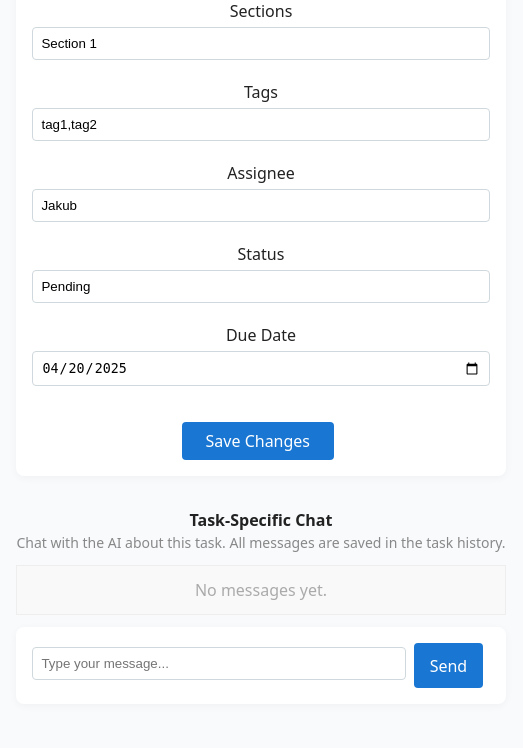
it: TaskDetail per-task chat integration › renders chat history and sends new messages
(page scrolled)
Expected: the text "Task-Specific Chat" is shown, [190,509,332,531]
Expected: the text "No messages yet." is shown, [195,579,327,601]
Type "How are you?" into the field with placeholder "Type your message...".
click(219, 664); type("How are you?")  # box [32,647,406,680]
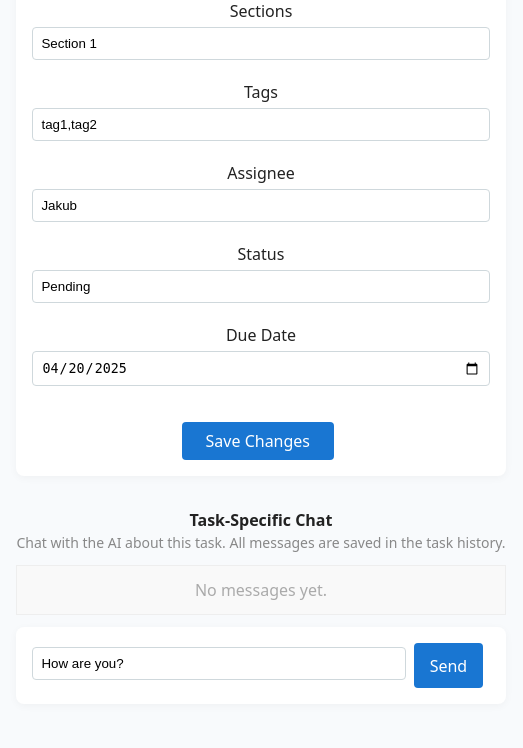
Click the button "Send".
click(448, 666)  # box [414,643,483,688]
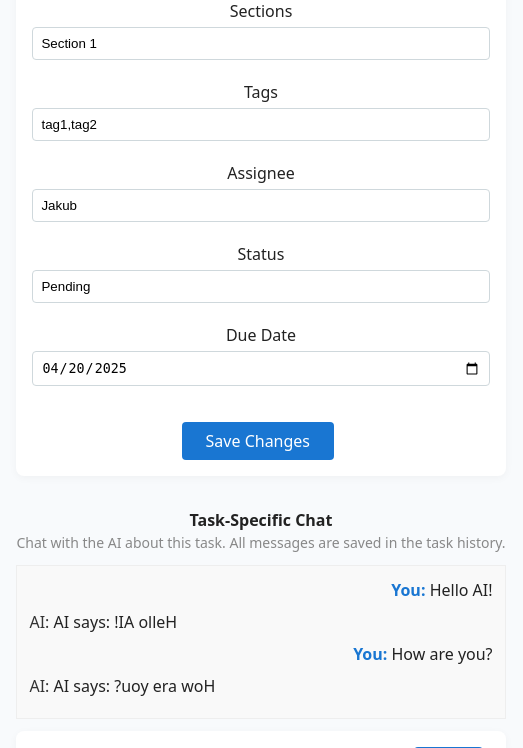
Now the element showing "You: How are you?" is shown, box [353,643,492,665]
Now the element showing "AI: AI says: ?uoy era woH" is shown, box [29,675,215,697]
